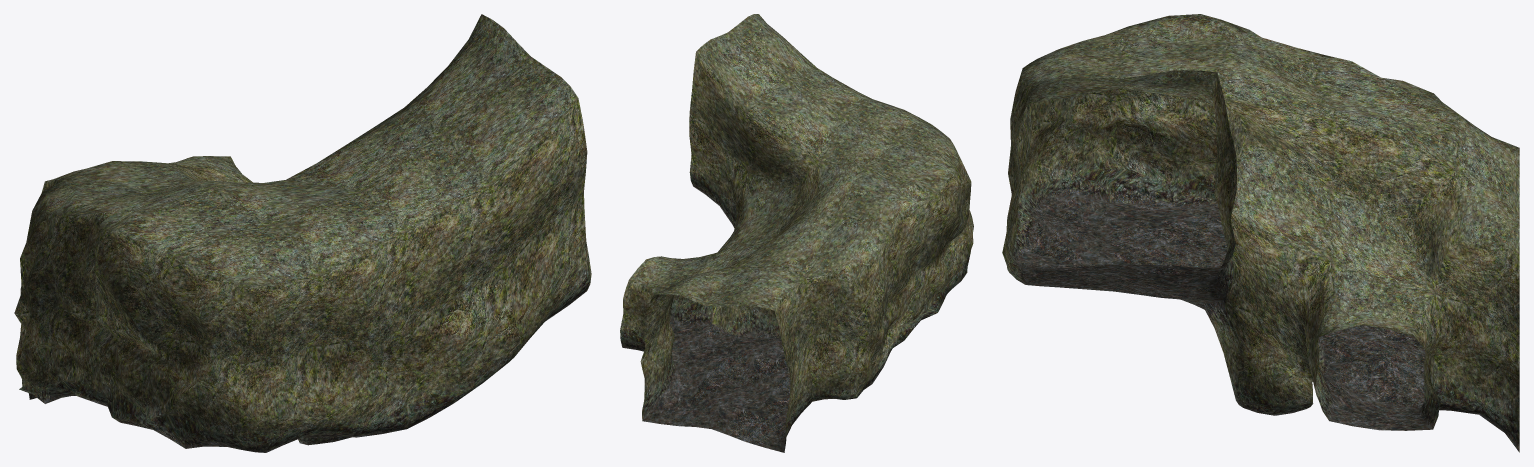
The model's file is thm_all_cave_s02_damprock_mirror_r3_mesh_r3.fbx.
The picture shows the model from 3 angles, left to right: view 1: azimuth 30°, elevation 25°; view 2: azimuth 150°, elevation 25°; view 3: azimuth 270°, elevation 25°; orthographic projection. The views are drawn at different scales.
Visible parts, largest first — view 1: mesh_node; view 2: mesh_node; view 3: mesh_node.
Part boxes in pixels (x1,y1,x2,y2): mesh_node: (14,14,591,452); mesh_node: (620,14,973,452); mesh_node: (1002,14,1519,452).
Size of the model in its own units: 41.68 by 44.73 by 50.2.
